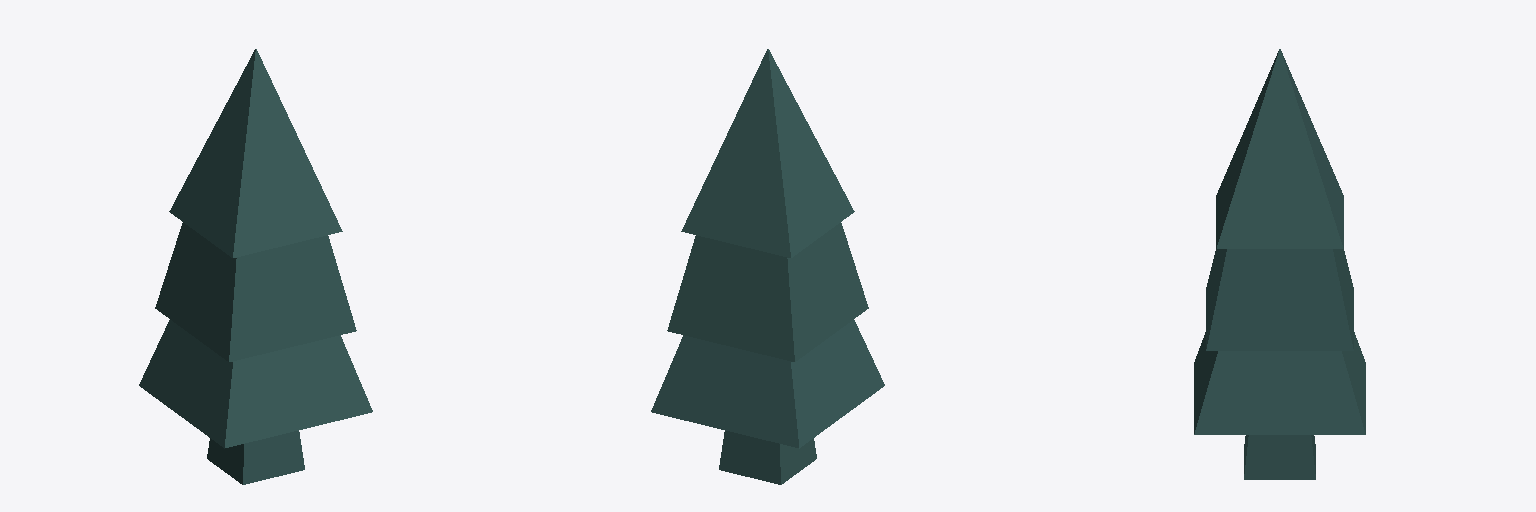
The model's file is tree_02.obj.
3 views of the same model, side by side, from view 1: azimuth 30°, elevation 25°; view 2: azimuth 150°, elevation 25°; view 3: azimuth 270°, elevation 25° (orthographic).
Visible parts, largest first — view 1: Mesh1 Tree Model; view 2: Mesh1 Tree Model; view 3: Mesh1 Tree Model.
Boxes of the visible parts, <box> form: Mesh1 Tree Model: <box>139,49,372,484</box>; Mesh1 Tree Model: <box>651,49,884,484</box>; Mesh1 Tree Model: <box>1194,49,1365,479</box>.
Bounding box in the file's own units: 1.18 × 3.16 × 1.18.